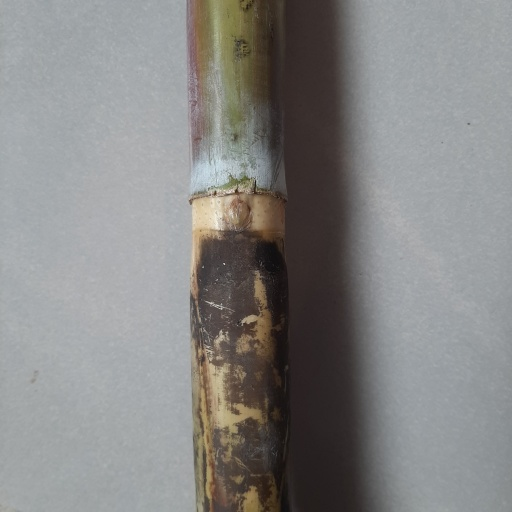Bud: (223, 198, 253, 233)
